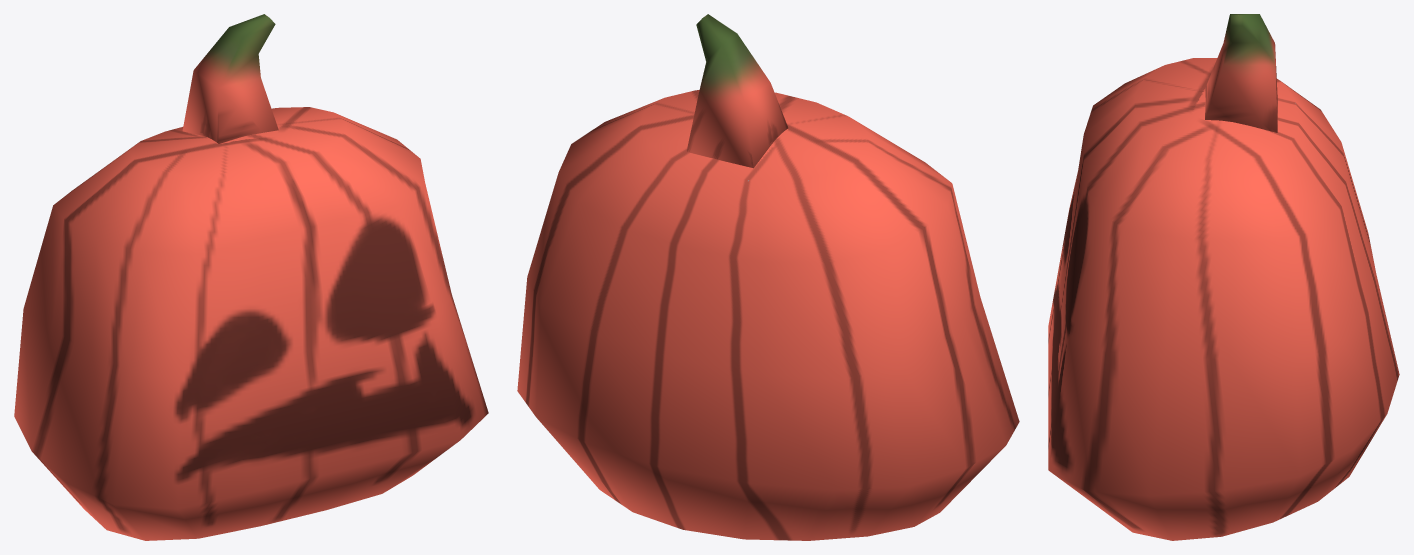
The model's file is pumpkin 3.fbx.
The picture shows the model from 3 angles, left to right: view 1: azimuth 30°, elevation 25°; view 2: azimuth 150°, elevation 25°; view 3: azimuth 270°, elevation 25°; orthographic projection. The views are drawn at different scales.
Visible parts, largest first — view 1: Sphere.001; view 2: Sphere.001; view 3: Sphere.001.
Boxes of the visible parts, bbox=[...] form: Sphere.001: bbox=[14, 14, 488, 540]; Sphere.001: bbox=[517, 14, 1019, 540]; Sphere.001: bbox=[1048, 14, 1399, 540].
Size of the model in its own units: 91.83 by 98.58 by 64.96.
